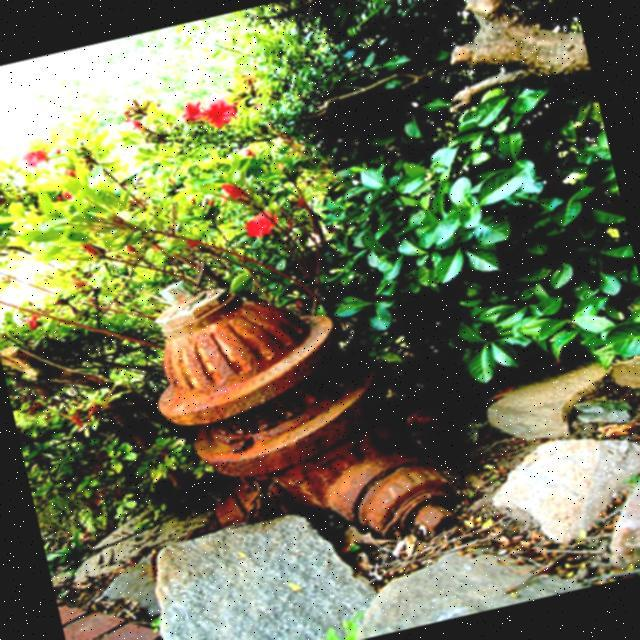fire_hydrant: (128, 228, 460, 588)
